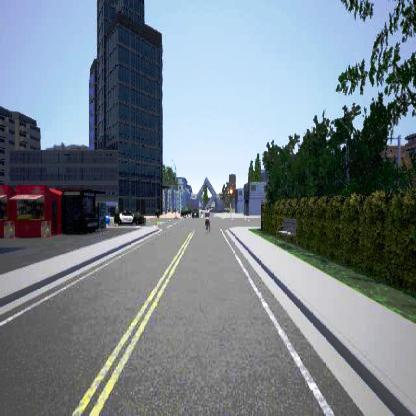bike: (202, 207, 212, 234)
vehicle: (113, 209, 145, 225), (190, 206, 199, 219)
